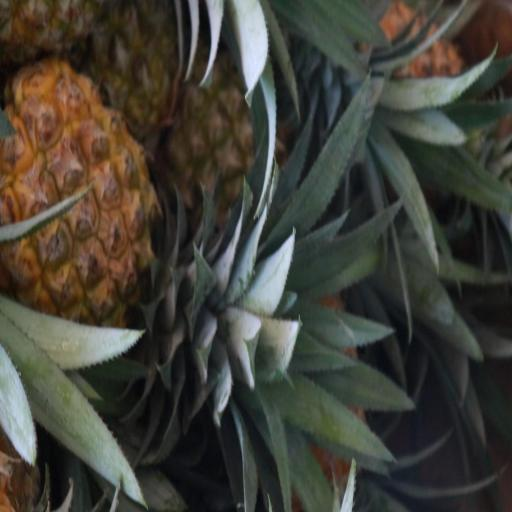Pineapple - v8 v1: (0, 67, 182, 339)
